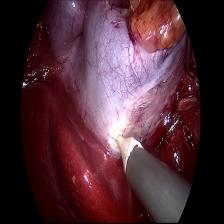Hook: (103, 125, 149, 178)
